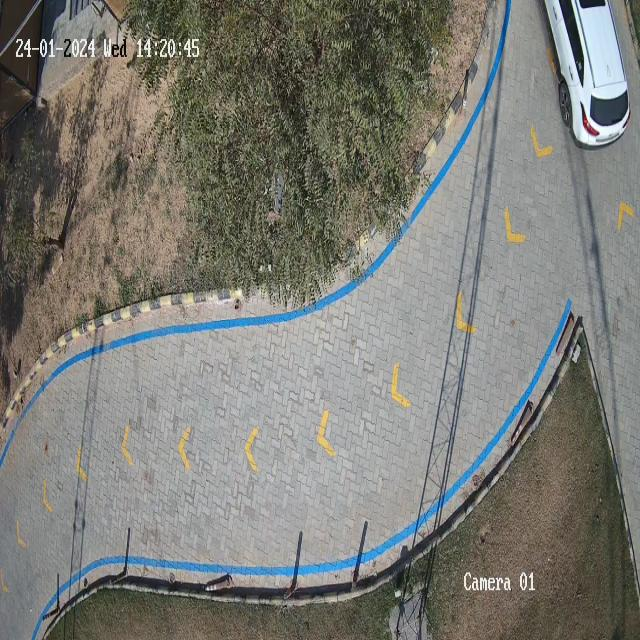car: (546, 0, 631, 149)
